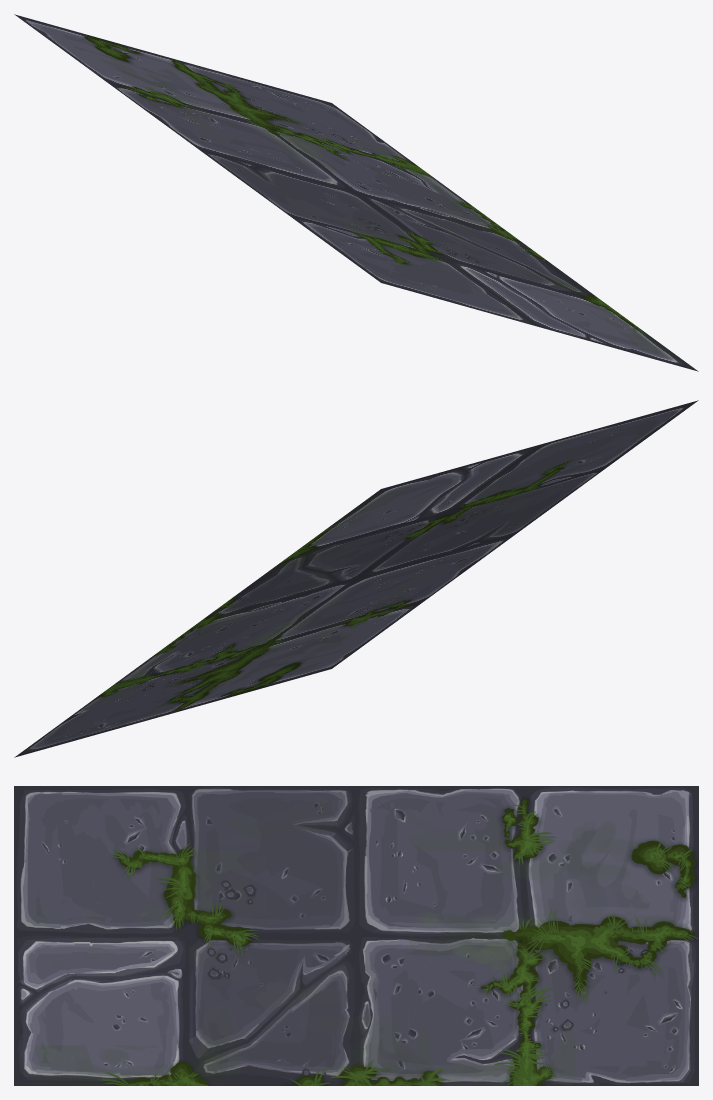
The model's file is MOD_Stairs_01_BotCap_4.fbx.
The picture shows the model from 3 angles, top to bottom: view 1: azimuth 30°, elevation 25°; view 2: azimuth 150°, elevation 25°; view 3: azimuth 270°, elevation 25°; orthographic projection. The views are drawn at different scales.
Visible parts, largest first — view 1: MOD_Stairs_01_BotCap_4; view 2: MOD_Stairs_01_BotCap_4; view 3: MOD_Stairs_01_BotCap_4.
Boxes of the visible parts, box(x1,y1,x2,y2) form: MOD_Stairs_01_BotCap_4: box(14, 14, 698, 371); MOD_Stairs_01_BotCap_4: box(14, 400, 698, 757); MOD_Stairs_01_BotCap_4: box(14, 786, 698, 1085).
Bounding box in the file's own units: 200 × 100 × 400.
